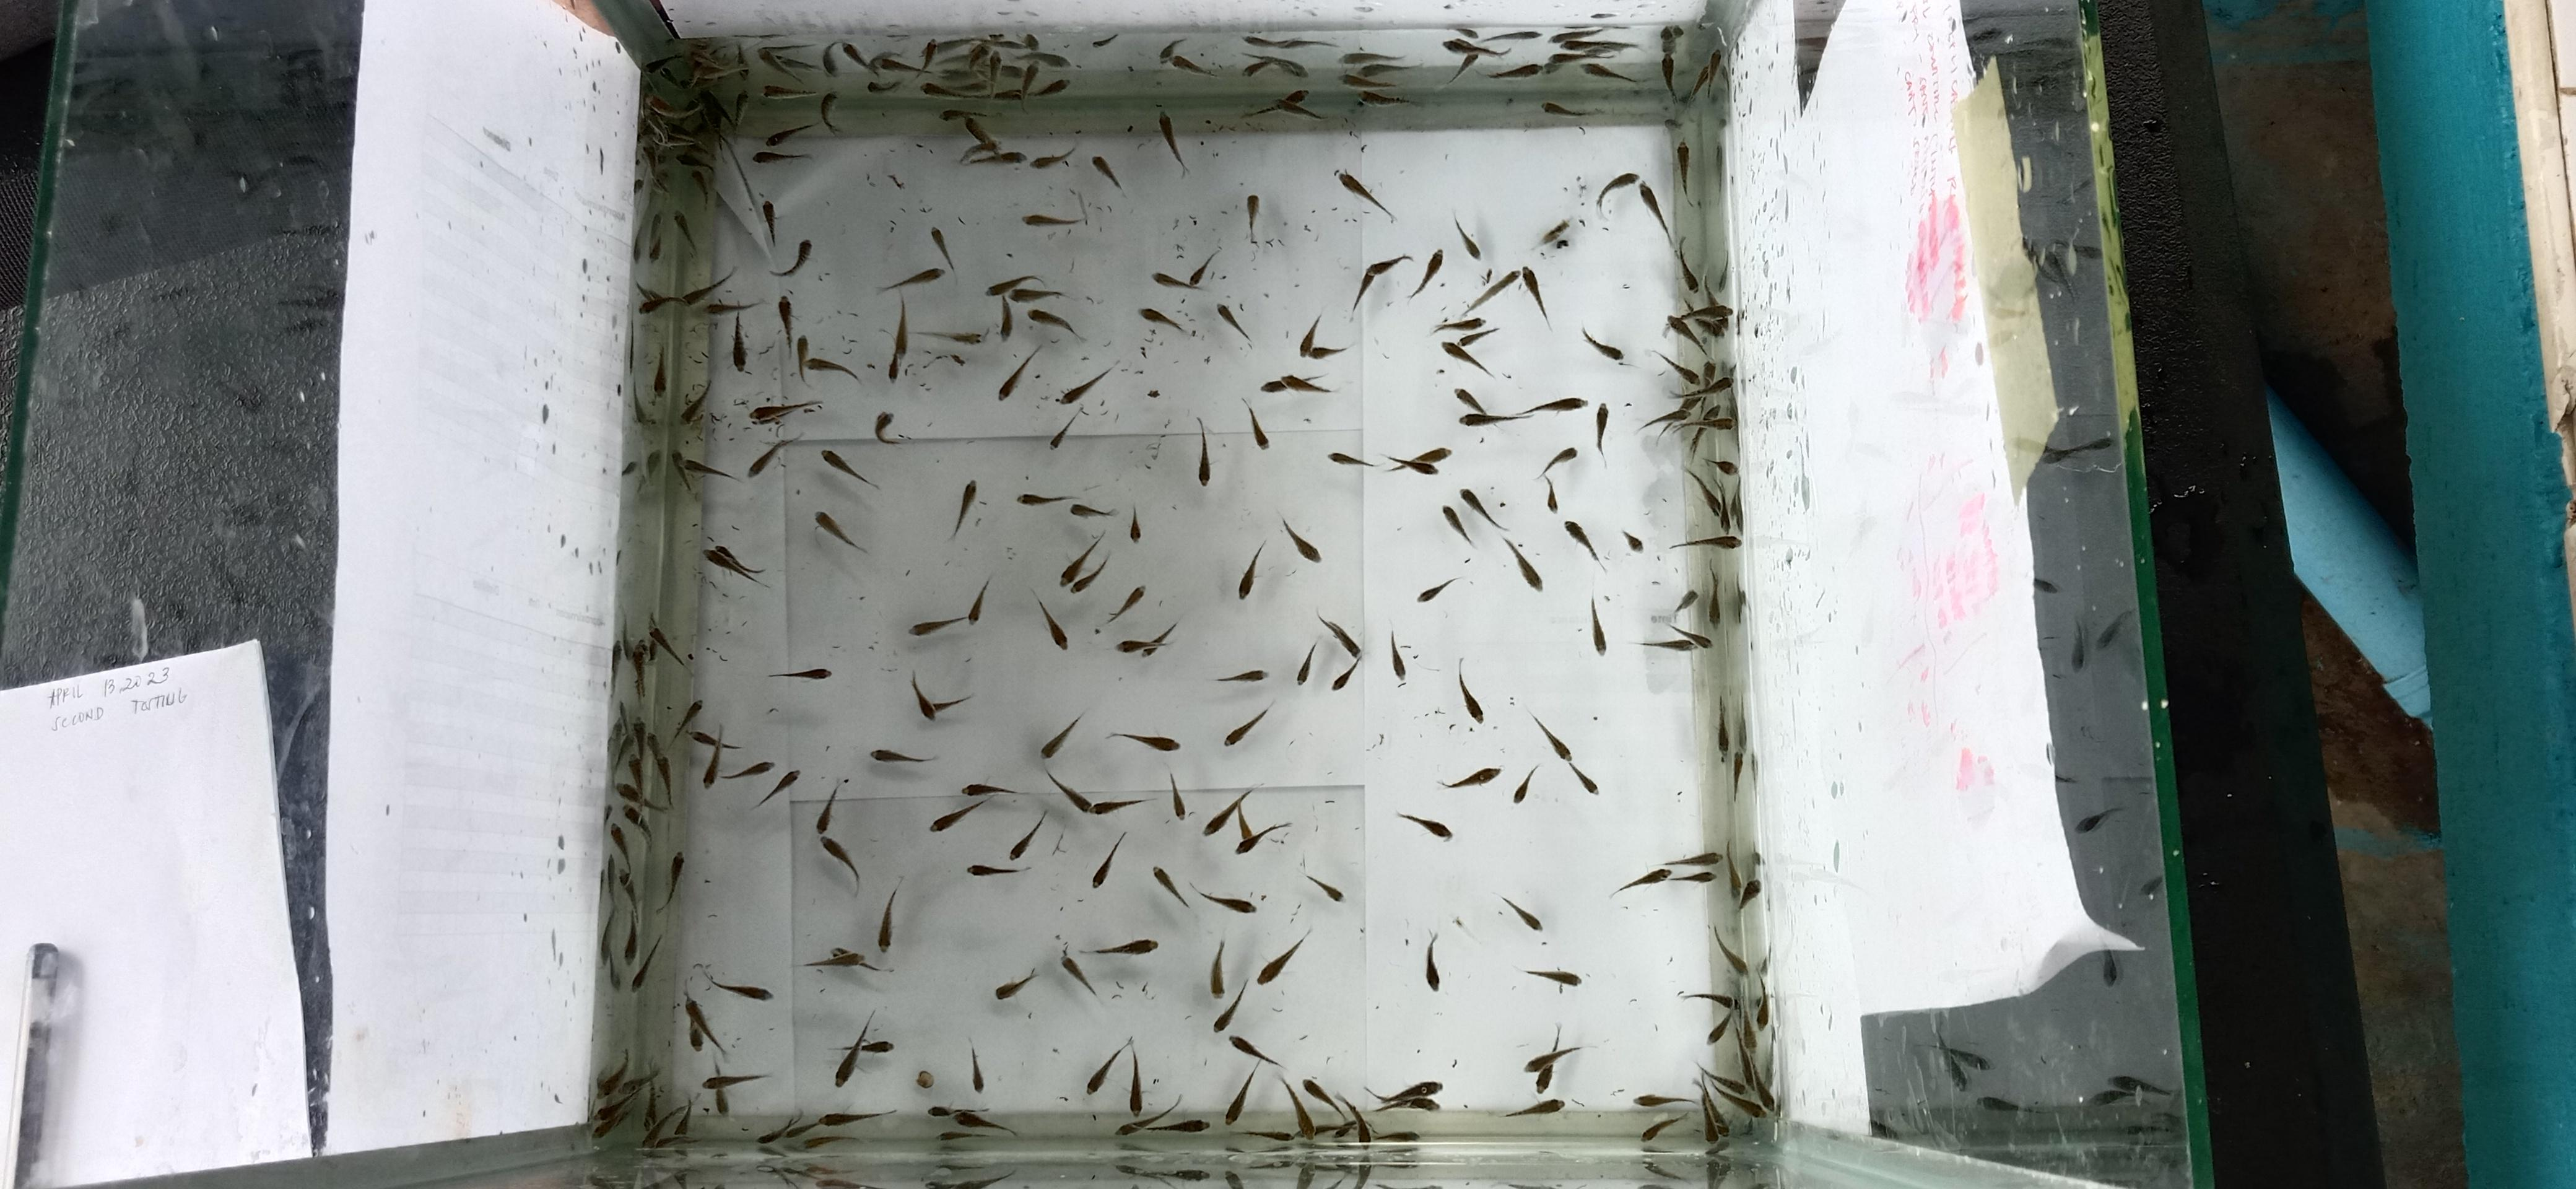fish: (921, 43, 1071, 106), (1710, 923, 1772, 1032), (968, 809, 1064, 876), (755, 1107, 896, 1151), (1634, 1086, 1729, 1144), (1295, 611, 1361, 691), (878, 225, 954, 293), (1612, 850, 1723, 895), (908, 575, 990, 637), (635, 265, 738, 314), (832, 1007, 892, 1086), (1046, 770, 1149, 816), (929, 784, 1017, 832), (1695, 1062, 1770, 1119), (923, 33, 1035, 69), (705, 298, 759, 372), (1524, 1024, 1581, 1092), (1351, 253, 1412, 313), (957, 113, 1024, 167), (1640, 401, 1734, 438), (679, 323, 713, 425), (985, 274, 1037, 338), (1256, 926, 1312, 985), (910, 670, 973, 721), (1679, 989, 1737, 1044), (1336, 168, 1395, 222), (842, 41, 901, 93), (1232, 803, 1290, 855), (690, 726, 740, 786), (757, 43, 825, 86), (702, 1070, 769, 1114), (796, 337, 859, 383), (685, 41, 746, 88), (1416, 554, 1474, 603), (1153, 247, 1220, 289), (671, 450, 738, 490), (1464, 267, 1519, 315), (683, 995, 726, 1055), (645, 614, 692, 670), (1242, 89, 1323, 121), (997, 344, 1043, 401), (939, 107, 998, 150), (640, 1098, 692, 1147), (1363, 1079, 1442, 1112), (820, 448, 880, 490), (1086, 1037, 1130, 1094), (1116, 1096, 1181, 1135), (1685, 468, 1728, 527), (1116, 617, 1178, 657), (1022, 190, 1087, 229), (818, 833, 859, 892), (1637, 180, 1674, 245), (703, 543, 765, 583), (1060, 531, 1103, 586), (1223, 700, 1275, 746), (1056, 365, 1115, 405), (1684, 409, 1735, 455), (1441, 336, 1494, 380), (1203, 789, 1251, 837), (814, 510, 866, 553), (1299, 315, 1348, 360), (1502, 536, 1543, 591), (1460, 486, 1508, 531), (1529, 712, 1573, 762), (922, 35, 984, 70), (1339, 54, 1413, 84), (1097, 585, 1145, 629), (1032, 590, 1068, 650), (590, 1094, 637, 1139), (1689, 280, 1733, 328), (686, 266, 738, 306), (630, 932, 666, 990), (1444, 38, 1494, 80), (1316, 611, 1360, 658), (1664, 313, 1710, 357), (1040, 712, 1082, 759), (1091, 830, 1126, 887), (646, 731, 672, 808), (887, 295, 910, 381), (747, 437, 797, 478), (1191, 882, 1255, 914), (1212, 976, 1248, 1031), (752, 768, 799, 810), (1228, 1034, 1284, 1069), (1710, 924, 1749, 975), (1157, 109, 1187, 175), (804, 946, 881, 972), (1407, 248, 1445, 299), (1549, 29, 1631, 53), (1059, 948, 1098, 998), (1385, 446, 1451, 475), (1009, 809, 1046, 860), (1520, 265, 1551, 327), (1224, 1066, 1256, 1125), (929, 799, 986, 832), (1596, 170, 1639, 215), (1046, 771, 1091, 813), (1158, 37, 1207, 75), (1637, 626, 1713, 651), (952, 1108, 1018, 1136), (749, 399, 821, 425), (1281, 516, 1321, 563), (997, 60, 1041, 102), (1697, 1084, 1728, 1143), (1442, 31, 1510, 58), (614, 780, 669, 813), (1650, 349, 1700, 385), (1069, 550, 1109, 594), (1564, 518, 1603, 564), (878, 266, 943, 293), (777, 294, 796, 383), (1151, 865, 1190, 908), (1236, 541, 1265, 599), (1457, 658, 1483, 723), (1735, 849, 1763, 910), (1261, 372, 1333, 396), (1139, 305, 1192, 337), (769, 237, 812, 276), (1028, 307, 1079, 340), (816, 777, 846, 832), (1650, 588, 1700, 621), (1016, 486, 1099, 505), (1612, 866, 1671, 894), (1581, 326, 1624, 364), (1660, 29, 1683, 100), (950, 479, 977, 538), (1640, 404, 1694, 433), (1241, 55, 1308, 79), (876, 882, 899, 952), (788, 1128, 858, 1151), (1497, 894, 1542, 930), (708, 976, 772, 1001), (1396, 811, 1451, 839), (594, 1051, 629, 1095), (1105, 731, 1180, 752), (1242, 33, 1336, 50), (1673, 141, 1697, 204), (659, 851, 684, 911), (1441, 504, 1475, 549), (921, 76, 990, 98), (994, 967, 1038, 1001), (754, 1112, 801, 1143), (833, 1040, 864, 1086), (1684, 300, 1732, 331), (1440, 765, 1502, 788), (1583, 61, 1640, 86), (911, 670, 940, 719), (1216, 302, 1251, 343), (1666, 533, 1742, 552), (820, 1108, 895, 1126), (1125, 1043, 1144, 1115), (1671, 379, 1732, 402), (1232, 799, 1258, 853), (1083, 937, 1157, 956), (679, 380, 710, 425), (963, 113, 998, 152), (908, 614, 970, 637), (1048, 409, 1081, 450), (1242, 399, 1269, 450), (672, 697, 703, 740), (1087, 792, 1149, 814), (915, 328, 986, 346), (1676, 243, 1703, 292), (1303, 1077, 1344, 1108), (985, 274, 1038, 298), (1640, 1114, 1686, 1142), (702, 1070, 768, 1089), (1453, 215, 1482, 259), (1664, 850, 1723, 871), (1541, 445, 1577, 479), (606, 819, 632, 868), (619, 801, 656, 834), (1225, 1128, 1293, 1146), (874, 409, 908, 444), (1194, 416, 1212, 486), (1338, 49, 1408, 66), (635, 282, 672, 315), (690, 726, 741, 750), (1731, 749, 1754, 799), (841, 40, 874, 76), (1304, 872, 1344, 902), (1512, 762, 1541, 803), (1540, 217, 1573, 252), (1523, 967, 1582, 986), (930, 225, 954, 272), (1340, 72, 1396, 92), (1690, 405, 1735, 430), (1505, 1097, 1565, 1116), (1715, 695, 1733, 760), (1031, 144, 1077, 169), (1091, 154, 1123, 190), (671, 450, 698, 492), (1705, 1008, 1736, 1045), (765, 124, 814, 147), (869, 747, 939, 763), (1431, 315, 1487, 334), (1542, 53, 1585, 78), (963, 148, 1024, 166), (1416, 576, 1457, 603), (1141, 431, 1167, 473), (1011, 282, 1064, 303), (1295, 640, 1318, 687), (730, 315, 749, 372), (1207, 938, 1225, 996), (722, 759, 773, 780), (1017, 62, 1040, 108), (968, 575, 990, 624), (1679, 989, 1734, 1008), (1299, 315, 1323, 357), (1590, 596, 1607, 655), (678, 143, 716, 170), (1669, 624, 1713, 648), (1023, 211, 1084, 228), (752, 149, 811, 165), (1424, 931, 1440, 990), (1356, 89, 1411, 107), (1550, 29, 1604, 47), (1568, 762, 1599, 793), (1633, 1091, 1696, 1107), (1046, 812, 1069, 855), (1327, 450, 1375, 469), (705, 298, 759, 316), (1390, 630, 1408, 682), (1725, 481, 1744, 530), (919, 351, 966, 370), (820, 92, 842, 134), (1451, 914, 1481, 944), (967, 861, 1029, 876), (1168, 771, 1186, 820), (1454, 387, 1486, 415), (760, 83, 811, 100), (768, 666, 830, 680), (1736, 877, 1762, 911), (1152, 270, 1198, 289), (1490, 63, 1539, 81), (760, 199, 778, 246), (963, 782, 1017, 798), (1332, 659, 1359, 690), (1016, 490, 1068, 507), (1117, 637, 1162, 656), (1542, 101, 1593, 117), (822, 39, 843, 77), (1169, 53, 1207, 74), (650, 346, 667, 394), (1594, 403, 1609, 455), (1069, 502, 1115, 519), (1158, 37, 1187, 63), (996, 294, 1014, 339), (1752, 992, 1771, 1032), (1245, 193, 1261, 242), (777, 295, 794, 340), (1035, 76, 1069, 98), (1543, 396, 1586, 413), (1160, 1117, 1209, 1132), (1216, 668, 1266, 682), (794, 334, 810, 380), (970, 1047, 985, 1092), (1670, 869, 1715, 884), (1703, 457, 1738, 476), (1369, 1130, 1420, 1143), (1674, 588, 1699, 613), (939, 107, 975, 124), (1544, 477, 1560, 513), (1127, 505, 1142, 542), (865, 79, 902, 94), (859, 1038, 893, 1054), (1621, 528, 1643, 551), (1260, 376, 1287, 394), (1090, 32, 1118, 47), (914, 1068, 934, 1087), (620, 458, 638, 476), (928, 1105, 953, 1117)
